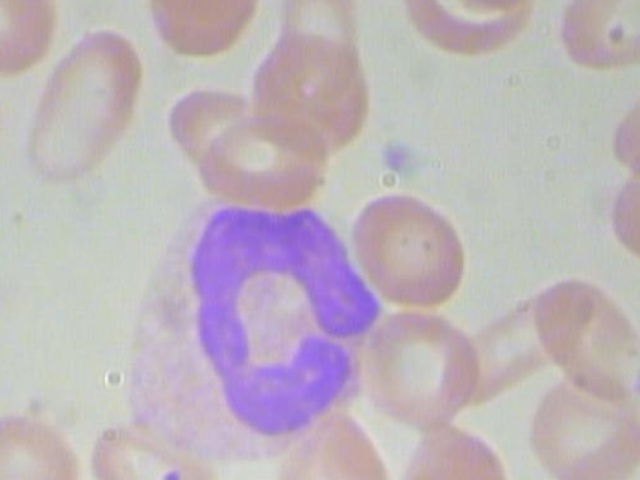RBC: (23, 26, 147, 189), (345, 305, 484, 428), (339, 191, 477, 313), (535, 269, 640, 403), (192, 112, 334, 207), (268, 403, 408, 480), (273, 0, 357, 112), (384, 422, 527, 480), (87, 421, 218, 480), (0, 406, 81, 480), (0, 0, 59, 78), (0, 66, 6, 181)
WBC: (121, 193, 398, 460)
